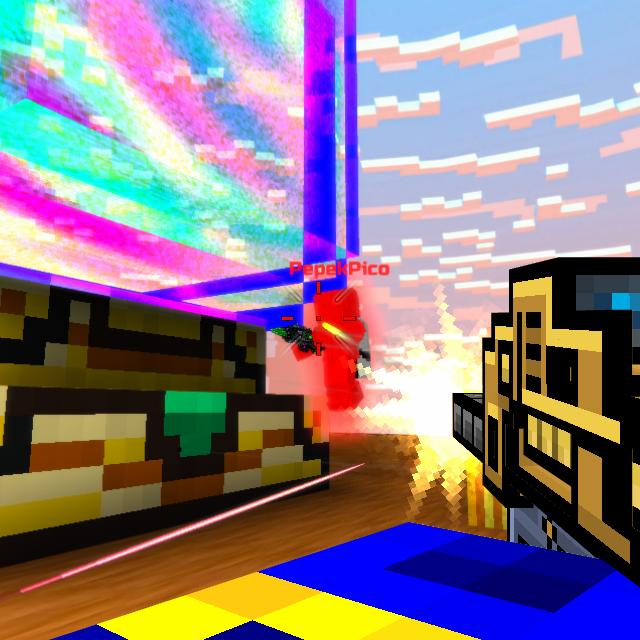Enemy: (306, 287, 373, 413)
